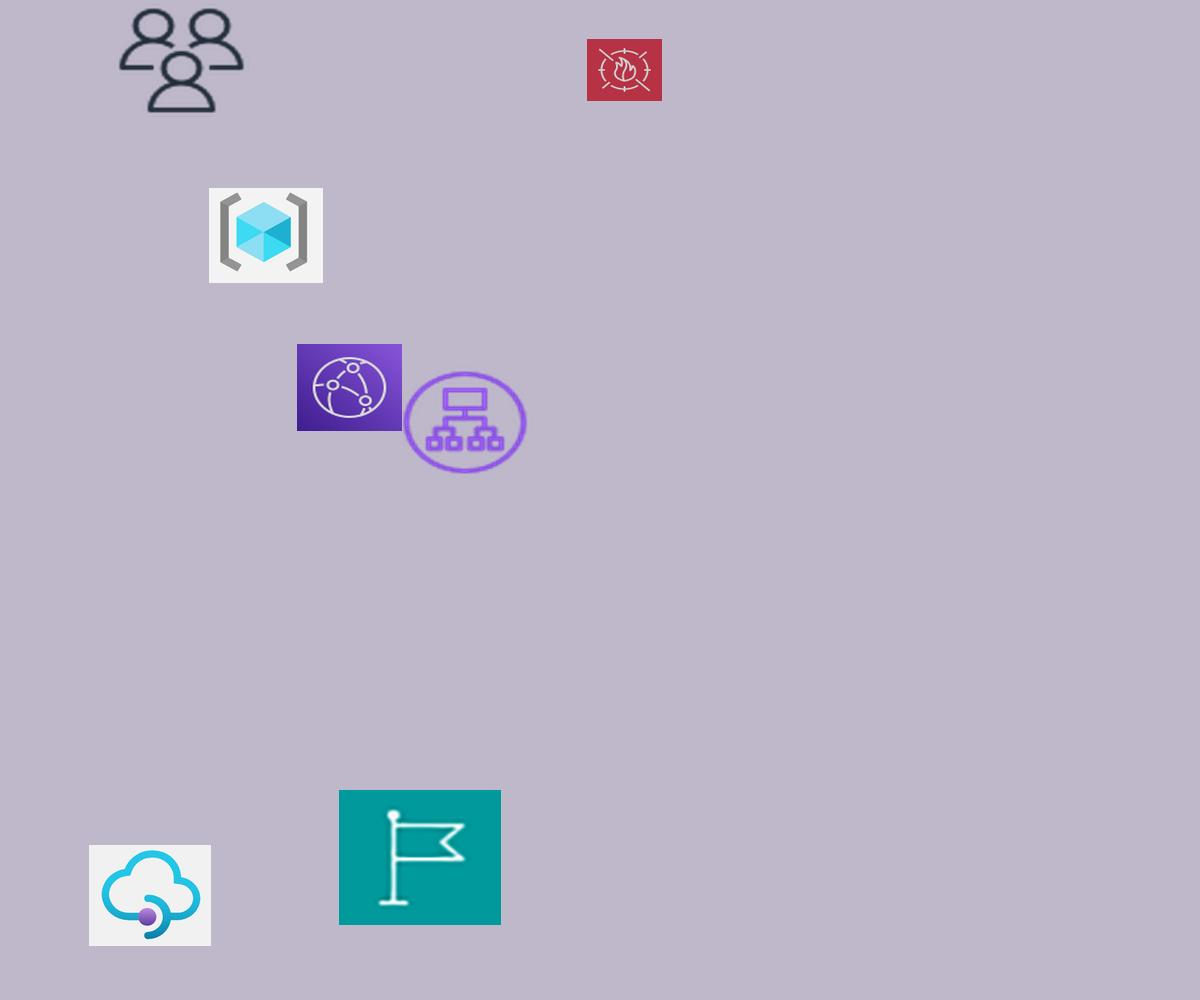AWS-CloudFront: (297, 344, 402, 431)
AWS-Region: (339, 790, 501, 925)
AWS-Res_Elastic-Load-Balancing_Application-Load-Balancer: (398, 367, 532, 478)
AWS-Res_Users: (114, 4, 249, 117)
AWS-WAF: (587, 39, 662, 101)
Azure_api_gateway: (89, 845, 211, 946)
Azure_resource_group: (209, 188, 323, 283)
